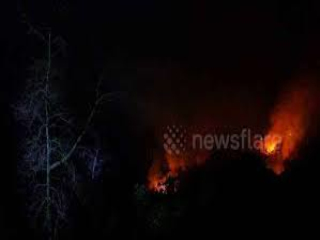fire: (260, 93, 307, 174)
